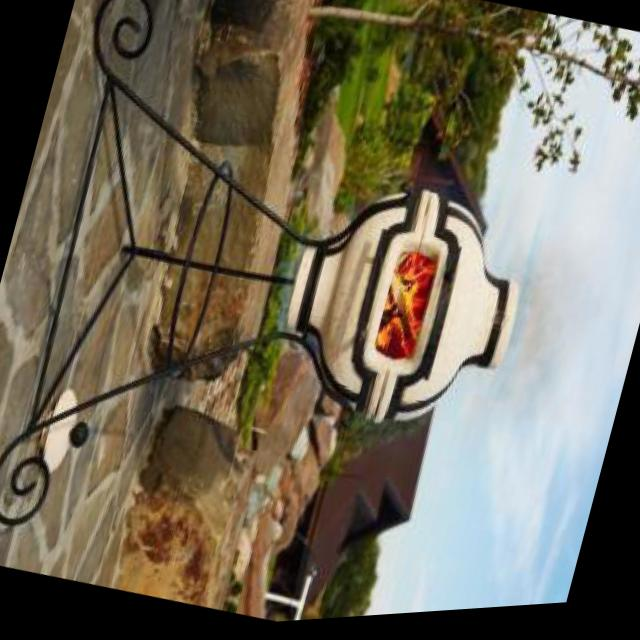Fire: (361, 241, 441, 371)
